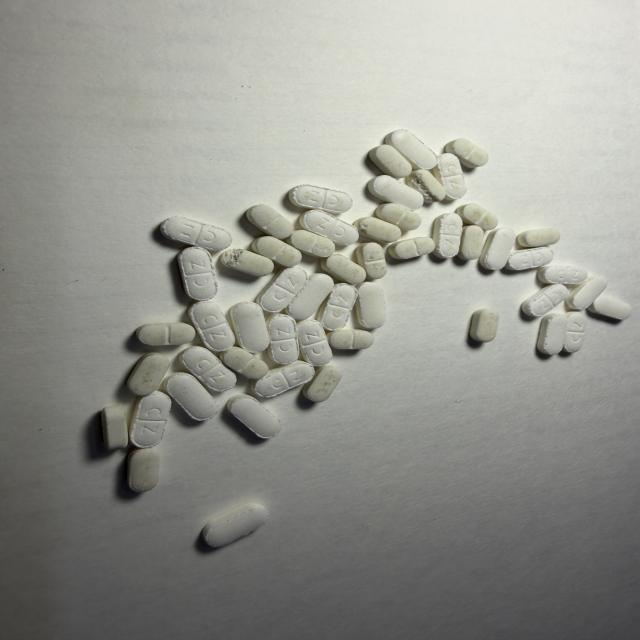pill: (202, 504, 268, 547), (165, 373, 218, 420), (180, 347, 236, 391), (160, 217, 231, 251), (188, 301, 235, 351), (227, 395, 280, 439), (130, 392, 171, 448), (257, 267, 307, 312), (253, 361, 314, 397), (177, 247, 217, 300), (287, 274, 333, 319), (299, 210, 358, 245), (385, 130, 437, 169), (230, 302, 269, 352), (368, 176, 423, 210), (319, 283, 357, 331), (127, 353, 169, 395), (289, 185, 352, 213), (298, 319, 332, 367), (246, 205, 293, 239), (268, 314, 299, 364), (479, 228, 515, 270), (252, 236, 302, 266), (522, 284, 568, 316), (434, 153, 466, 199), (303, 364, 341, 402), (223, 347, 268, 379), (221, 249, 274, 276), (565, 276, 607, 310), (369, 145, 412, 178), (356, 282, 386, 328), (321, 254, 366, 284), (128, 449, 159, 492), (406, 170, 446, 203), (136, 323, 195, 345), (375, 203, 421, 231), (433, 214, 462, 258), (445, 139, 488, 168), (289, 230, 335, 257), (537, 314, 567, 355), (356, 242, 388, 280), (355, 217, 401, 242), (102, 406, 128, 450), (505, 247, 553, 270), (456, 204, 498, 230), (388, 237, 435, 260), (588, 295, 631, 320), (470, 309, 499, 342), (537, 265, 587, 284), (563, 312, 586, 352), (458, 226, 484, 260), (329, 329, 373, 349), (518, 229, 560, 247)
